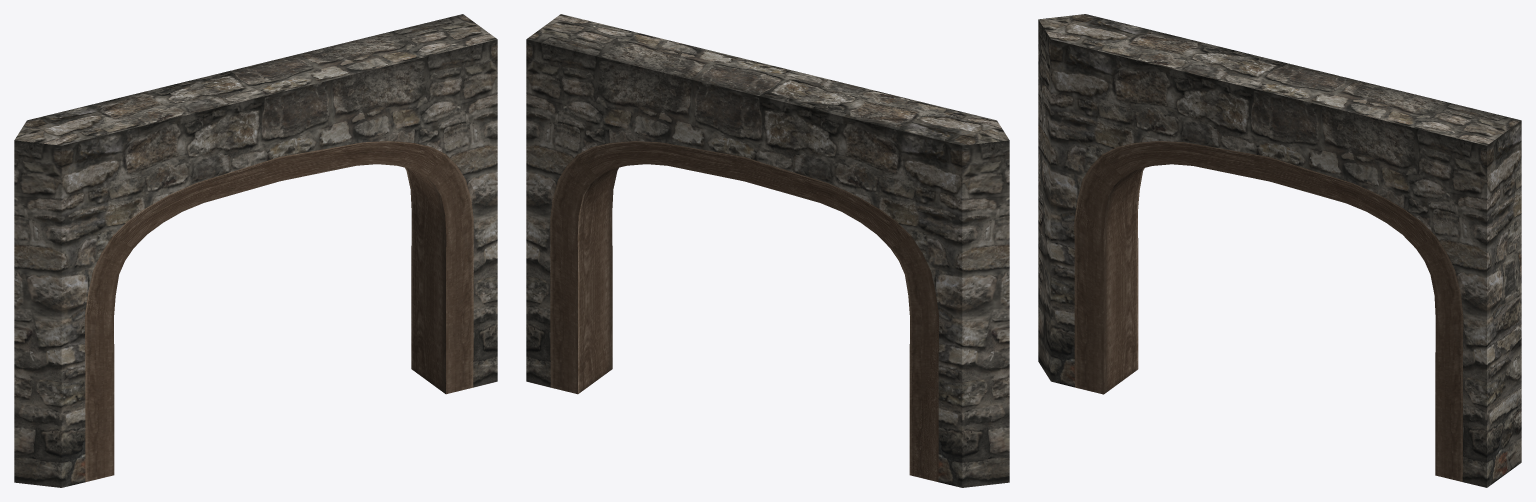
The model's file is Stone_Arched_Door_Plain_Upper.dae.
3 views of the same model, side by side, from view 1: azimuth 30°, elevation 25°; view 2: azimuth 150°, elevation 25°; view 3: azimuth 330°, elevation 25° (orthographic).
Parts seen in each view (by area): view 1: StoneArchPlainUpper; view 2: StoneArchPlainUpper; view 3: StoneArchPlainUpper.
Boxes of the visible parts, <box> form: StoneArchPlainUpper: <box>14,14,497,487</box>; StoneArchPlainUpper: <box>526,14,1009,487</box>; StoneArchPlainUpper: <box>1038,14,1521,487</box>.
Bounding box in the file's own units: 4.28 × 3.02 × 0.55.
1 material, 1 textured.
